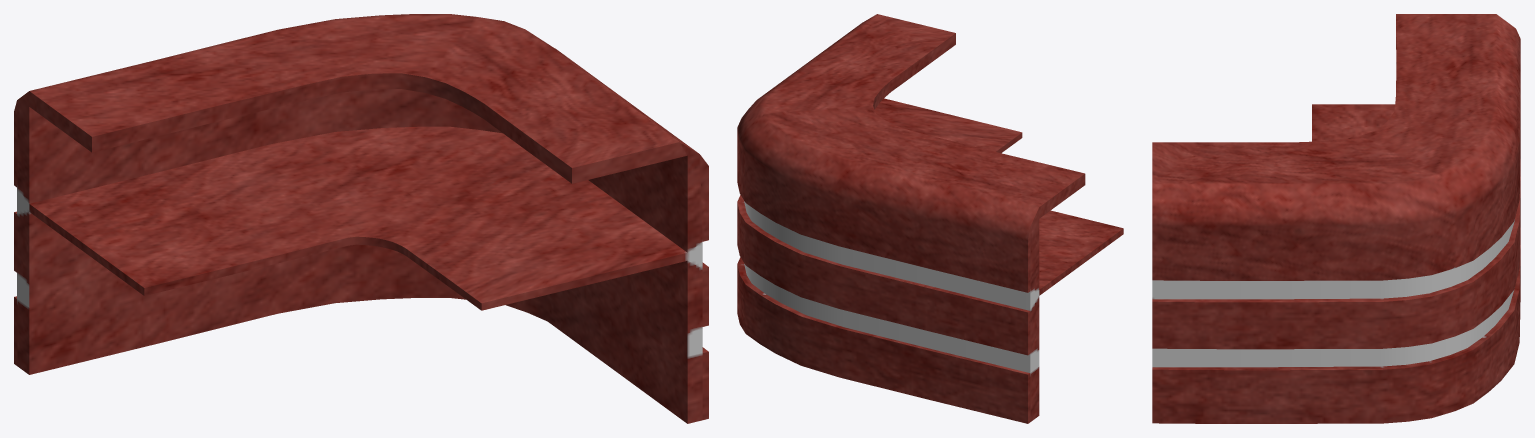
The model's file is ReceptionDesk_Corner_Right.glb.
The picture shows the model from 3 angles, left to right: view 1: azimuth 30°, elevation 25°; view 2: azimuth 150°, elevation 25°; view 3: azimuth 270°, elevation 25°; orthographic projection. The views are drawn at different scales.
Visible parts, largest first — view 1: RightCurveDeskConnector; view 2: RightCurveDeskConnector; view 3: RightCurveDeskConnector.
Part boxes in pixels (box(x1,y1,x2,y2)): RightCurveDeskConnector: box(14, 14, 708, 423); RightCurveDeskConnector: box(737, 14, 1123, 423); RightCurveDeskConnector: box(1152, 14, 1520, 423).
Size of the model in its own units: 1.85 by 1.08 by 1.58.
Materials: 1 (1 with a texture image).
